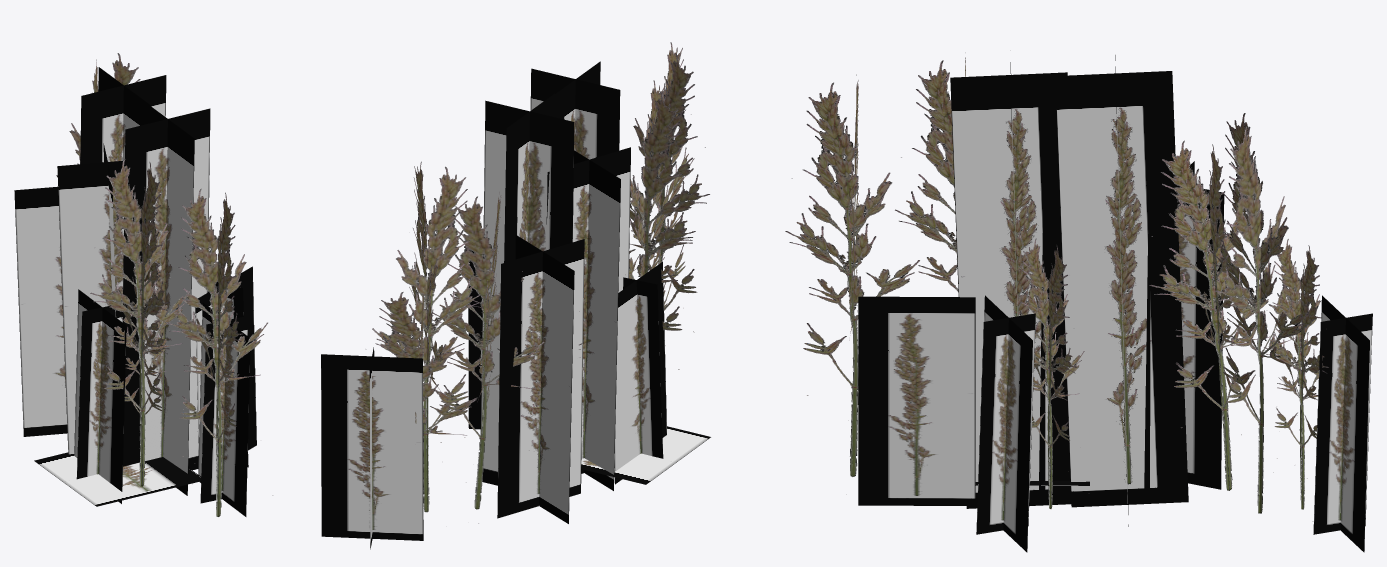
File: Grass-Multiple.fbx
The picture shows the model from 3 angles, left to right: view 1: azimuth 30°, elevation 25°; view 2: azimuth 150°, elevation 25°; view 3: azimuth 270°, elevation 25°; orthographic projection. The views are drawn at different scales.
Visible parts, largest first — view 1: Tak-2; view 2: Tak-2; view 3: Tak-2.
Boxes of the visible parts, x1=… form: Tak-2: x1=14, y1=53, x2=273, y2=516; Tak-2: x1=321, y1=42, x2=710, y2=549; Tak-2: x1=785, y1=52, x2=1372, y2=552.
Size of the model in its own units: 391 by 644 by 821.
